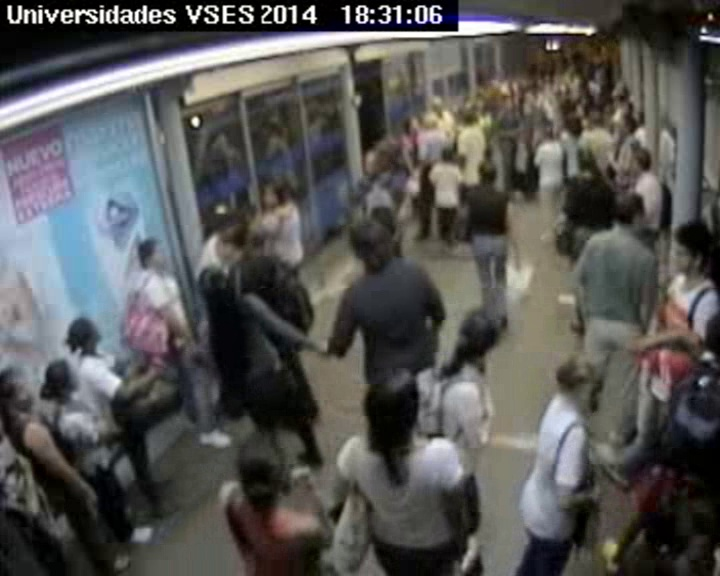person: (357, 368, 423, 440), (232, 429, 292, 498), (348, 222, 398, 275), (455, 313, 503, 367), (673, 222, 713, 275), (555, 359, 596, 409), (1, 367, 41, 412), (198, 268, 236, 308), (42, 359, 82, 397), (215, 223, 252, 261), (612, 194, 648, 232), (68, 317, 102, 352), (136, 238, 169, 272), (574, 150, 597, 174), (271, 184, 294, 208), (476, 162, 497, 187), (391, 148, 411, 170), (632, 150, 651, 171), (373, 166, 392, 187), (619, 116, 636, 135), (402, 117, 419, 135), (563, 99, 581, 115), (420, 112, 436, 130), (429, 97, 445, 114), (587, 111, 605, 126), (370, 131, 385, 149), (566, 120, 581, 137), (611, 86, 626, 102), (473, 97, 488, 113), (458, 113, 473, 129), (551, 59, 565, 73), (533, 112, 547, 126), (441, 147, 454, 162), (591, 68, 604, 82), (571, 56, 584, 69), (501, 68, 513, 81), (515, 106, 527, 119), (543, 126, 554, 138), (502, 97, 512, 109), (572, 74, 582, 85), (527, 65, 538, 75), (533, 79, 543, 90), (581, 94, 591, 105), (559, 84, 569, 94), (542, 74, 551, 83)
